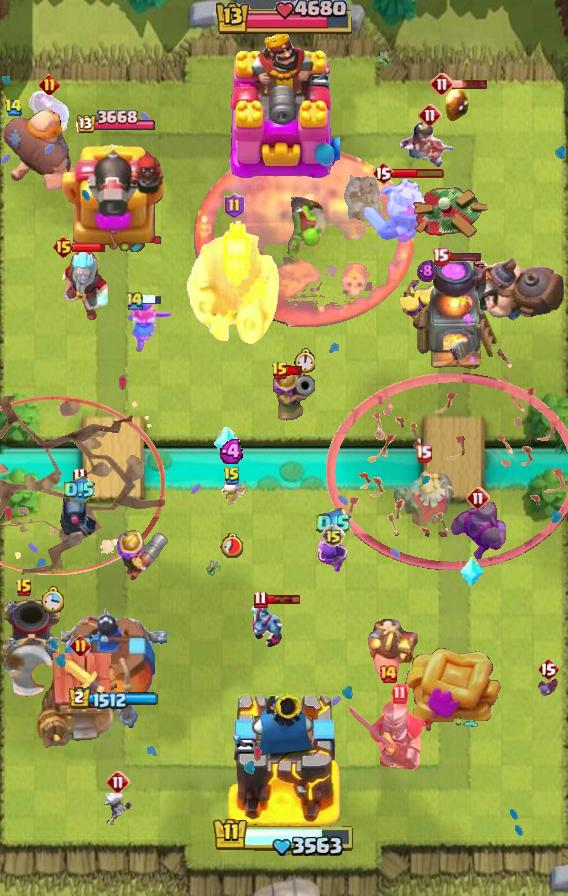axe: (0, 644, 56, 698)
bar: (392, 167, 445, 179), (452, 78, 489, 90), (266, 594, 301, 605), (447, 251, 482, 262), (72, 242, 106, 253), (143, 294, 162, 306), (287, 365, 304, 376)
bar-level: (106, 770, 130, 794), (321, 524, 345, 548), (466, 486, 490, 510), (418, 103, 442, 127), (430, 72, 454, 96), (52, 235, 75, 259), (224, 193, 245, 219), (537, 657, 559, 681), (372, 161, 394, 185), (70, 635, 91, 656), (39, 74, 60, 95), (125, 290, 145, 311), (378, 664, 398, 684), (4, 98, 23, 117), (15, 578, 33, 598), (223, 466, 241, 486), (271, 361, 289, 381), (415, 444, 432, 463), (432, 247, 449, 266), (253, 590, 268, 609), (72, 467, 87, 486)
barbarian-evolution: (400, 280, 452, 330)
bat: (536, 672, 560, 698)
cannoneer-tower: (60, 138, 168, 256)
clock: (220, 532, 245, 558), (41, 586, 65, 613), (294, 348, 315, 373)
dirt: (342, 172, 380, 222)
elixir: (316, 508, 351, 539), (64, 476, 95, 504), (219, 439, 246, 464), (417, 259, 436, 283)
fire-spirit: (444, 88, 470, 122)
goblin-ball: (279, 197, 329, 263)
goblin-brawler: (450, 502, 506, 560)
ice-spirit-evolution-symbol: (459, 556, 485, 588), (213, 427, 239, 459)
ice-wizard: (49, 249, 113, 321)
king-tower: (228, 29, 340, 181), (227, 688, 342, 826)
king-tower-bar: (212, 817, 356, 859), (213, 0, 355, 38)
knight-evolution: (28, 89, 70, 132)
mini-pekka: (58, 488, 100, 542)
minion: (250, 598, 292, 650)
mortar: (0, 598, 64, 664)
musketeer: (114, 526, 168, 580), (273, 368, 315, 436)
princess: (399, 122, 461, 174)
queen-tower: (61, 603, 167, 731)
royal-ghost: (363, 176, 427, 248), (392, 466, 454, 526)
skeleton: (103, 793, 134, 827), (218, 475, 246, 509)
skeleton-evolution: (318, 541, 349, 577)
tower-bar: (74, 110, 155, 136), (69, 687, 160, 710)
valkyrie: (126, 300, 174, 354)
